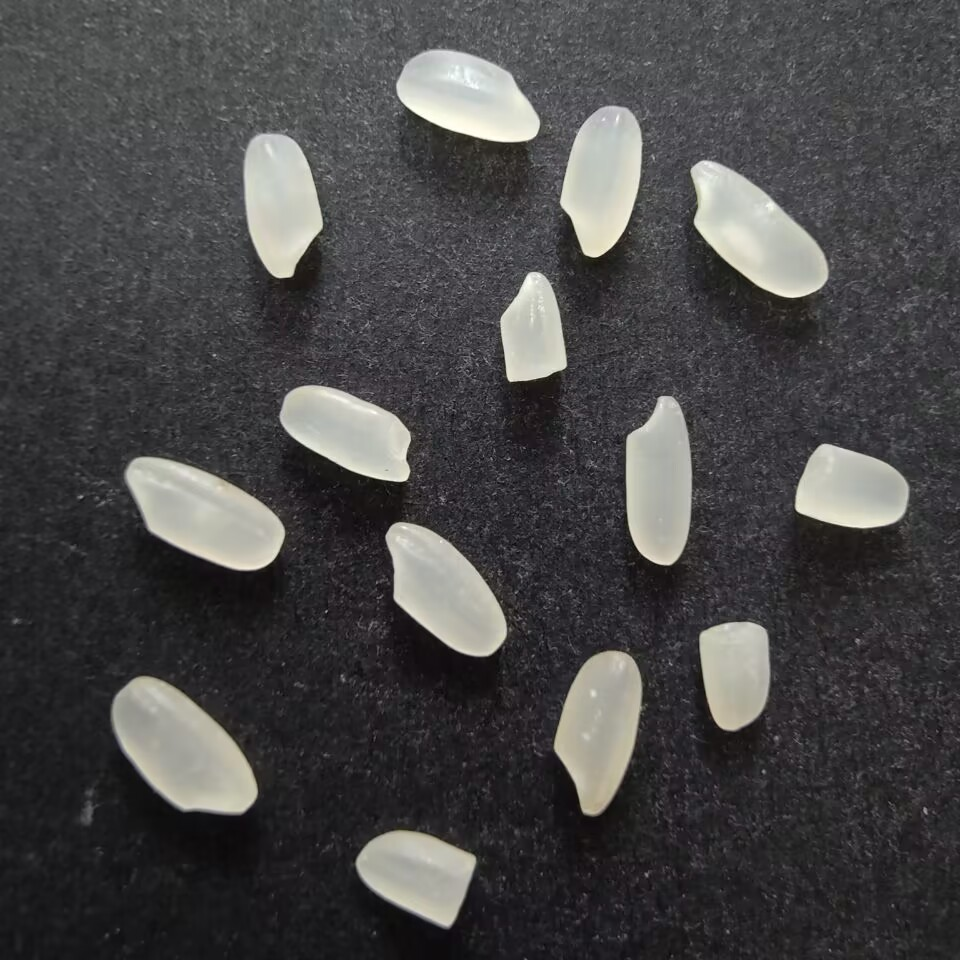broken: (351, 829, 478, 932), (793, 440, 915, 536), (694, 620, 771, 734), (497, 266, 570, 386)
rice: (105, 672, 260, 818), (686, 157, 834, 301), (120, 453, 290, 575), (379, 520, 512, 658), (551, 647, 642, 820), (390, 47, 543, 146), (272, 383, 415, 486), (559, 103, 643, 261), (240, 128, 326, 280), (624, 389, 694, 567)
